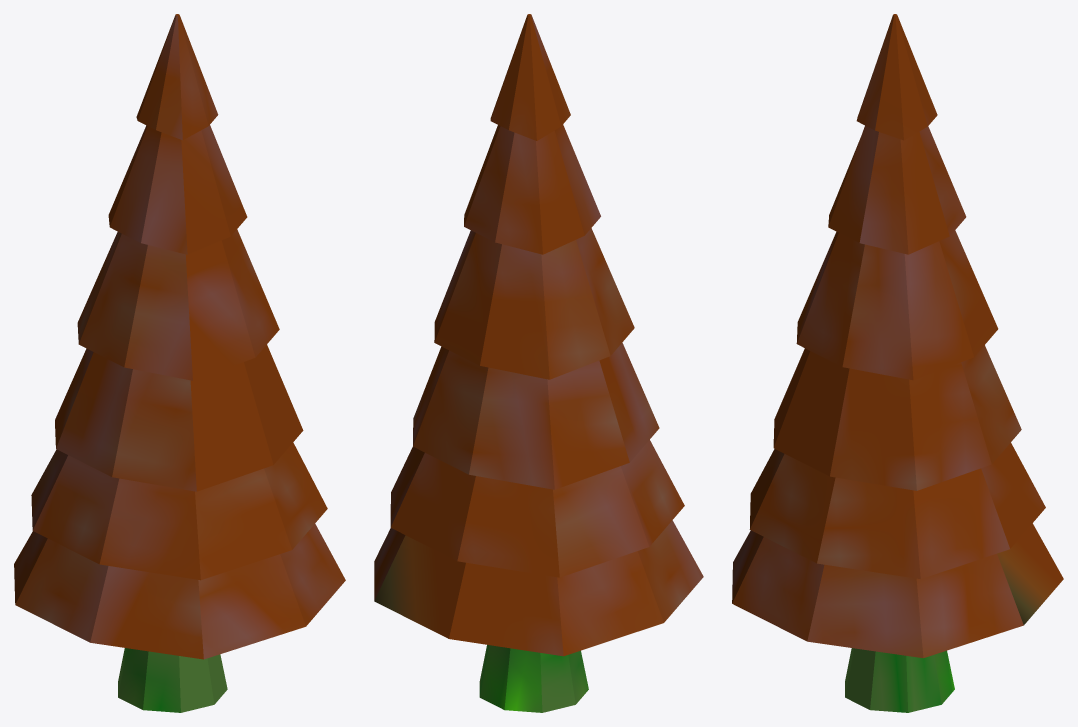
Rendered from lowpolytree.obj.
3 views of the same model, side by side, from view 1: azimuth 30°, elevation 25°; view 2: azimuth 150°, elevation 25°; view 3: azimuth 270°, elevation 25° (orthographic).
Visible parts, largest first — view 1: Cylinder; view 2: Cylinder; view 3: Cylinder.
Boxes of the visible parts, x1=… form: Cylinder: x1=14, y1=14, x2=345, y2=712; Cylinder: x1=374, y1=14, x2=703, y2=712; Cylinder: x1=732, y1=14, x2=1063, y2=712.
Bounding box in the file's own units: 2.31 × 5.12 × 2.28.
2 materials, 2 textured.
